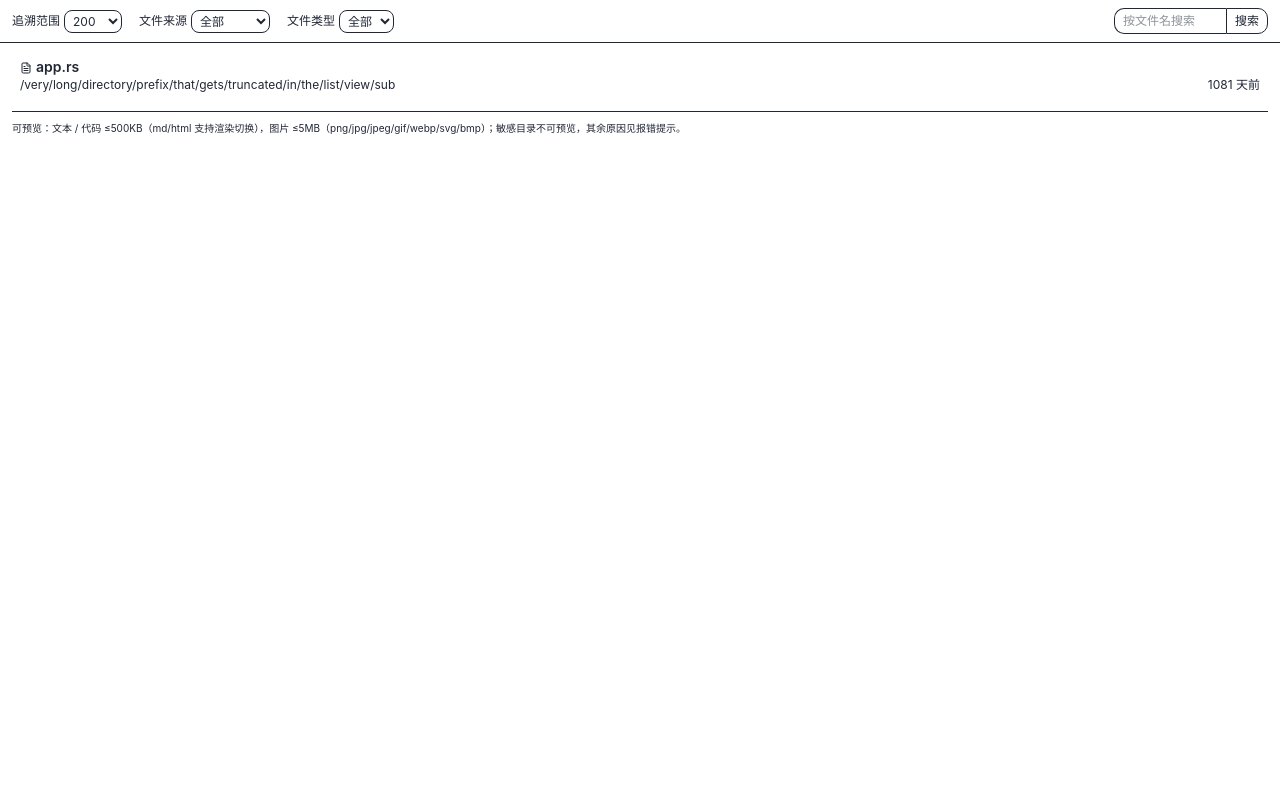
FilePanel 目录路径点击弹全路径（2026-09-16 用户裁决） › 点次行目录 → 弹层显示完整路径（手机与电脑逻辑一致）
What coordinates should you click on to do the following:
click the button with test id "file-row-0-dir"
I would click on:
 (208, 84)
Its box is [20,77,1200,93].
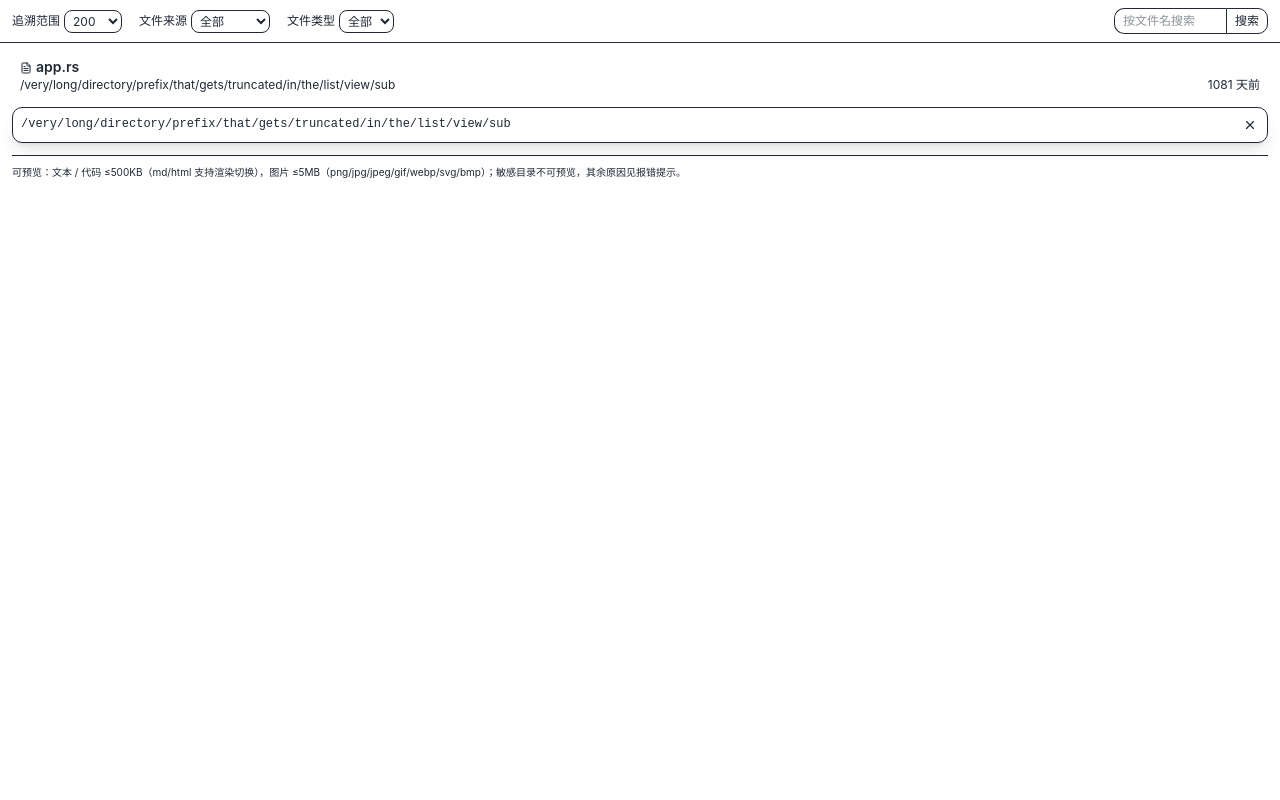
Check: the dialog with test id "path-popover" reads "/very/long/directory/prefix/that/gets/truncated/in/the/list/view/sub", box [21,117,511,131]
